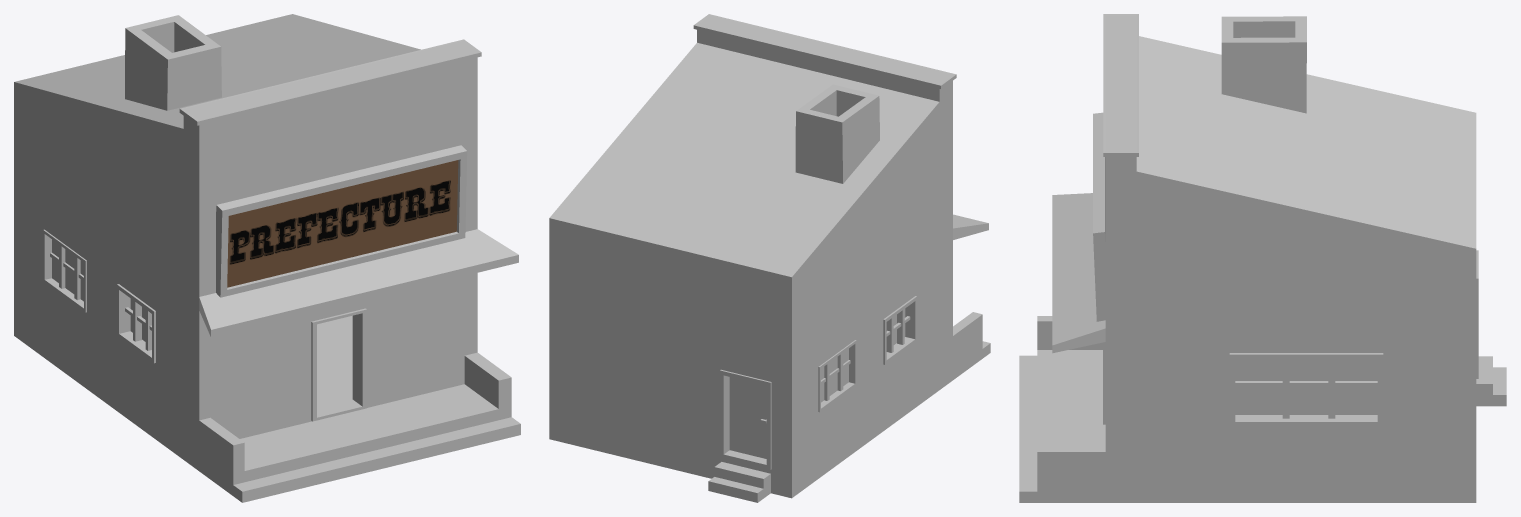
File: Casa_9.fbx
3 views of the same model, side by side, from view 1: azimuth 30°, elevation 25°; view 2: azimuth 150°, elevation 25°; view 3: azimuth 270°, elevation 25° (orthographic). The views are drawn at different scales.
Visible parts, largest first — view 1: casa, Banner; view 2: casa; view 3: casa.
Part boxes in pixels (left/top/right/bottom): casa: left=14, top=14, right=520, bottom=502; Banner: left=227, top=160, right=458, bottom=287; casa: left=549, top=14, right=990, bottom=502; casa: left=1019, top=14, right=1506, bottom=502.
Bounding box in the file's own units: 5902 × 6652 × 8084.
